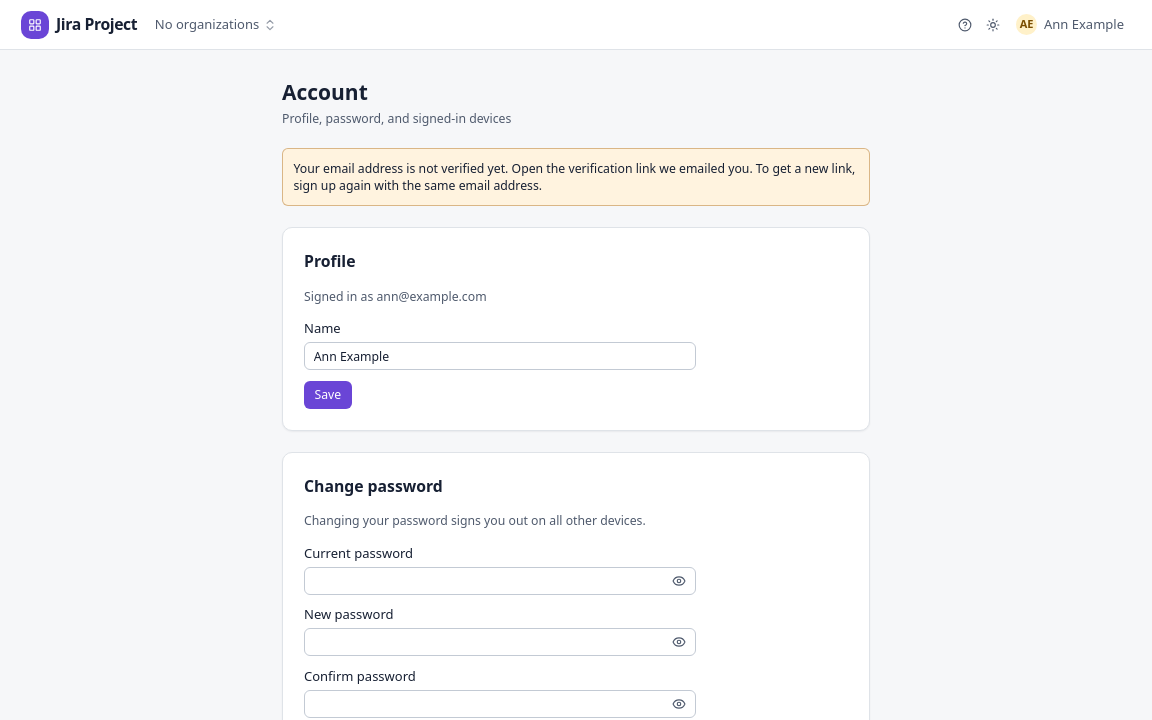
Scenario: sign out failure › keeps the user signed in and says so when the server rejects the logout
Click the button "AE Ann Example" at (1070, 25), box [1009, 12, 1131, 37]
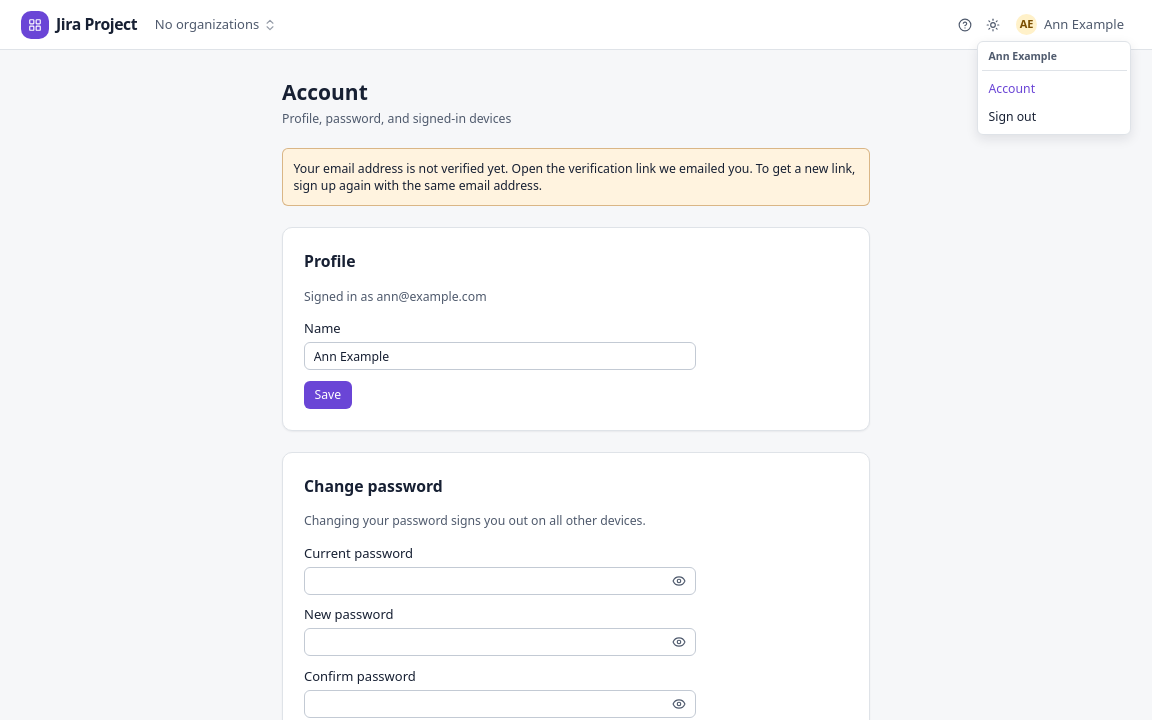
Click the menu item "Sign out" at (1012, 116), box [988, 108, 1036, 125]
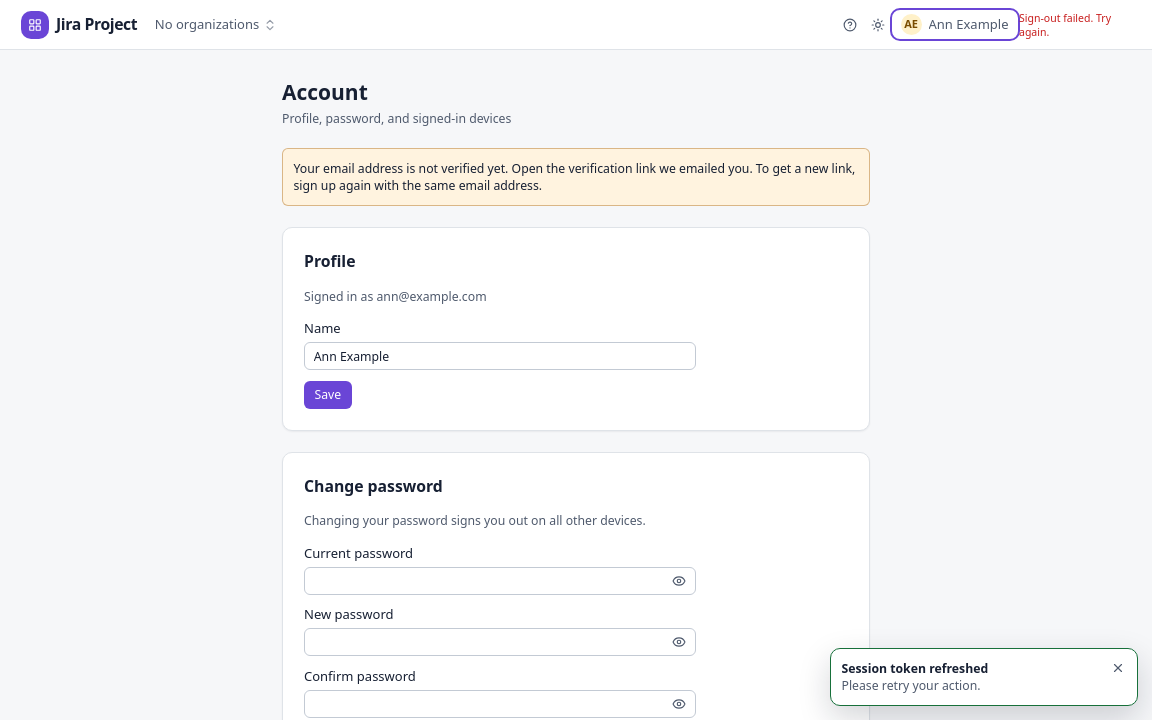
Expected: the button "AE Ann Example" is shown, [894, 12, 1016, 37]
Expected: the text "Sign-out failed. Try again." is shown, [1019, 10, 1111, 38]
